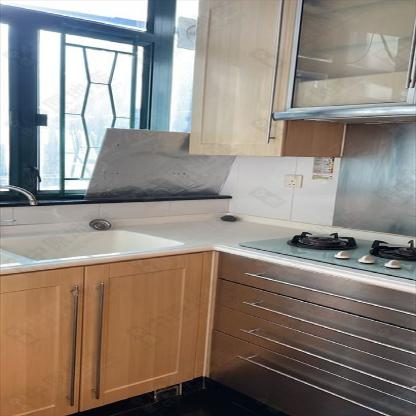Cupboard: (1, 252, 415, 415), (184, 0, 415, 156)
Exhaust Hood: (271, 106, 415, 124)
Faucet: (0, 183, 48, 209)
Sink: (2, 228, 192, 265)
Stove: (241, 230, 413, 278)
